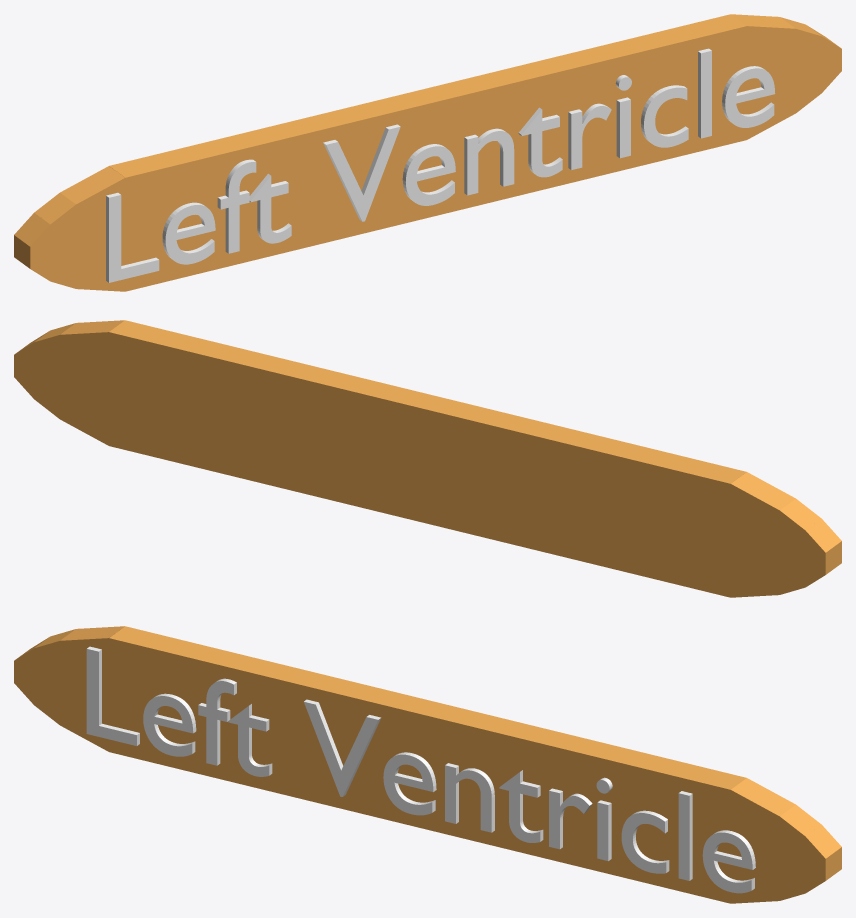
The model's file is txtLeftVentricle.fbx.
3 renders of one model, top to bottom at view 1: azimuth 30°, elevation 25°; view 2: azimuth 150°, elevation 25°; view 3: azimuth 330°, elevation 25°, orthographic.
Parts seen in each view (by area): view 1: TagContainer.044, Text.045; view 2: TagContainer.044; view 3: TagContainer.044, Text.045.
Boxes of the visible parts, box(x1,y1,x2,y2) form: TagContainer.044: box(14, 14, 841, 291); Text.045: box(106, 48, 775, 282); TagContainer.044: box(14, 320, 841, 597); TagContainer.044: box(14, 626, 841, 903); Text.045: box(86, 646, 755, 893).
Bounding box in the file's own units: 308 × 41.3 × 12.69.
